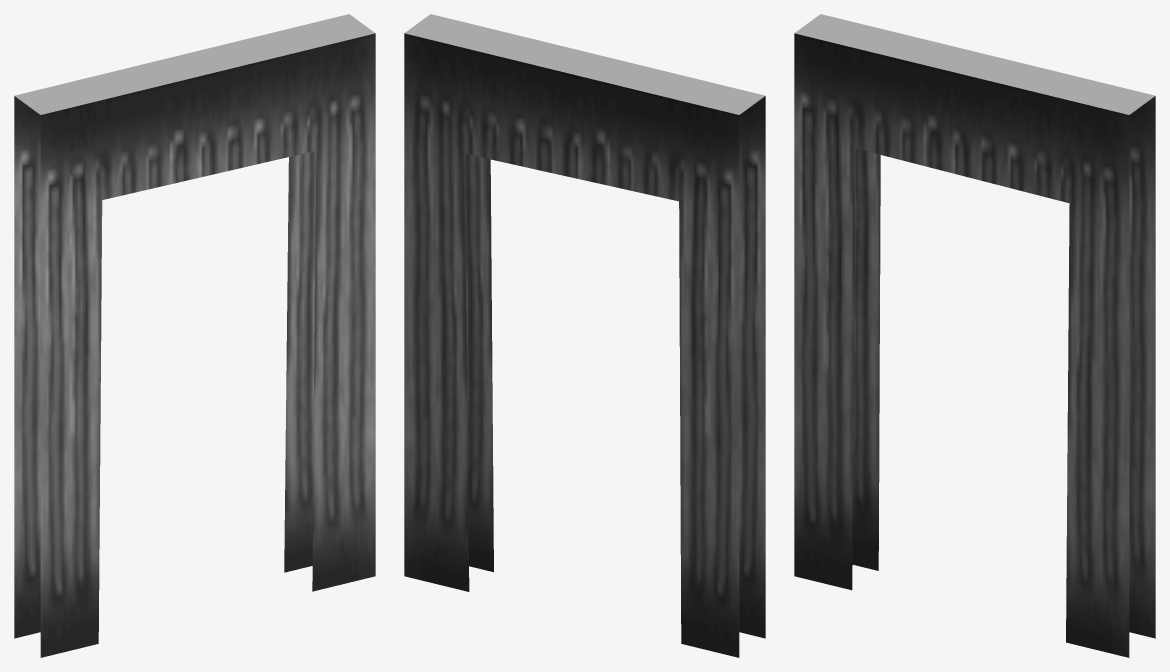
The model's file is W_I2_o_Verschoben [Wellblech]_787.glb.
The picture shows the model from 3 angles, left to right: view 1: azimuth 30°, elevation 25°; view 2: azimuth 150°, elevation 25°; view 3: azimuth 330°, elevation 25°; orthographic projection.
Parts seen in each view (by area): view 1: pPlaneShape3, pPlaneShape2, pPlaneShape1; view 2: pPlaneShape2, pPlaneShape3, pPlaneShape1; view 3: pPlaneShape3, pPlaneShape2, pPlaneShape1.
Boxes of the visible parts, <box> form: pPlaneShape3: <box>40,33,375,657</box>; pPlaneShape2: <box>14,96,315,638</box>; pPlaneShape1: <box>14,14,375,114</box>; pPlaneShape2: <box>404,33,739,657</box>; pPlaneShape3: <box>464,96,765,638</box>; pPlaneShape1: <box>404,14,765,114</box>; pPlaneShape3: <box>794,33,1129,657</box>; pPlaneShape2: <box>852,96,1155,638</box>; pPlaneShape1: <box>794,14,1155,114</box>.
Bounding box in the file's own units: 0.2252 × 0.3486 × 0.0308.
3 materials, 2 textured.
